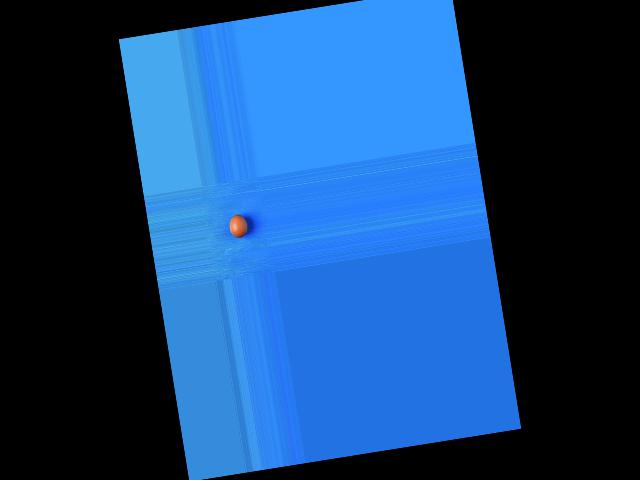egg: (227, 213, 249, 238)
